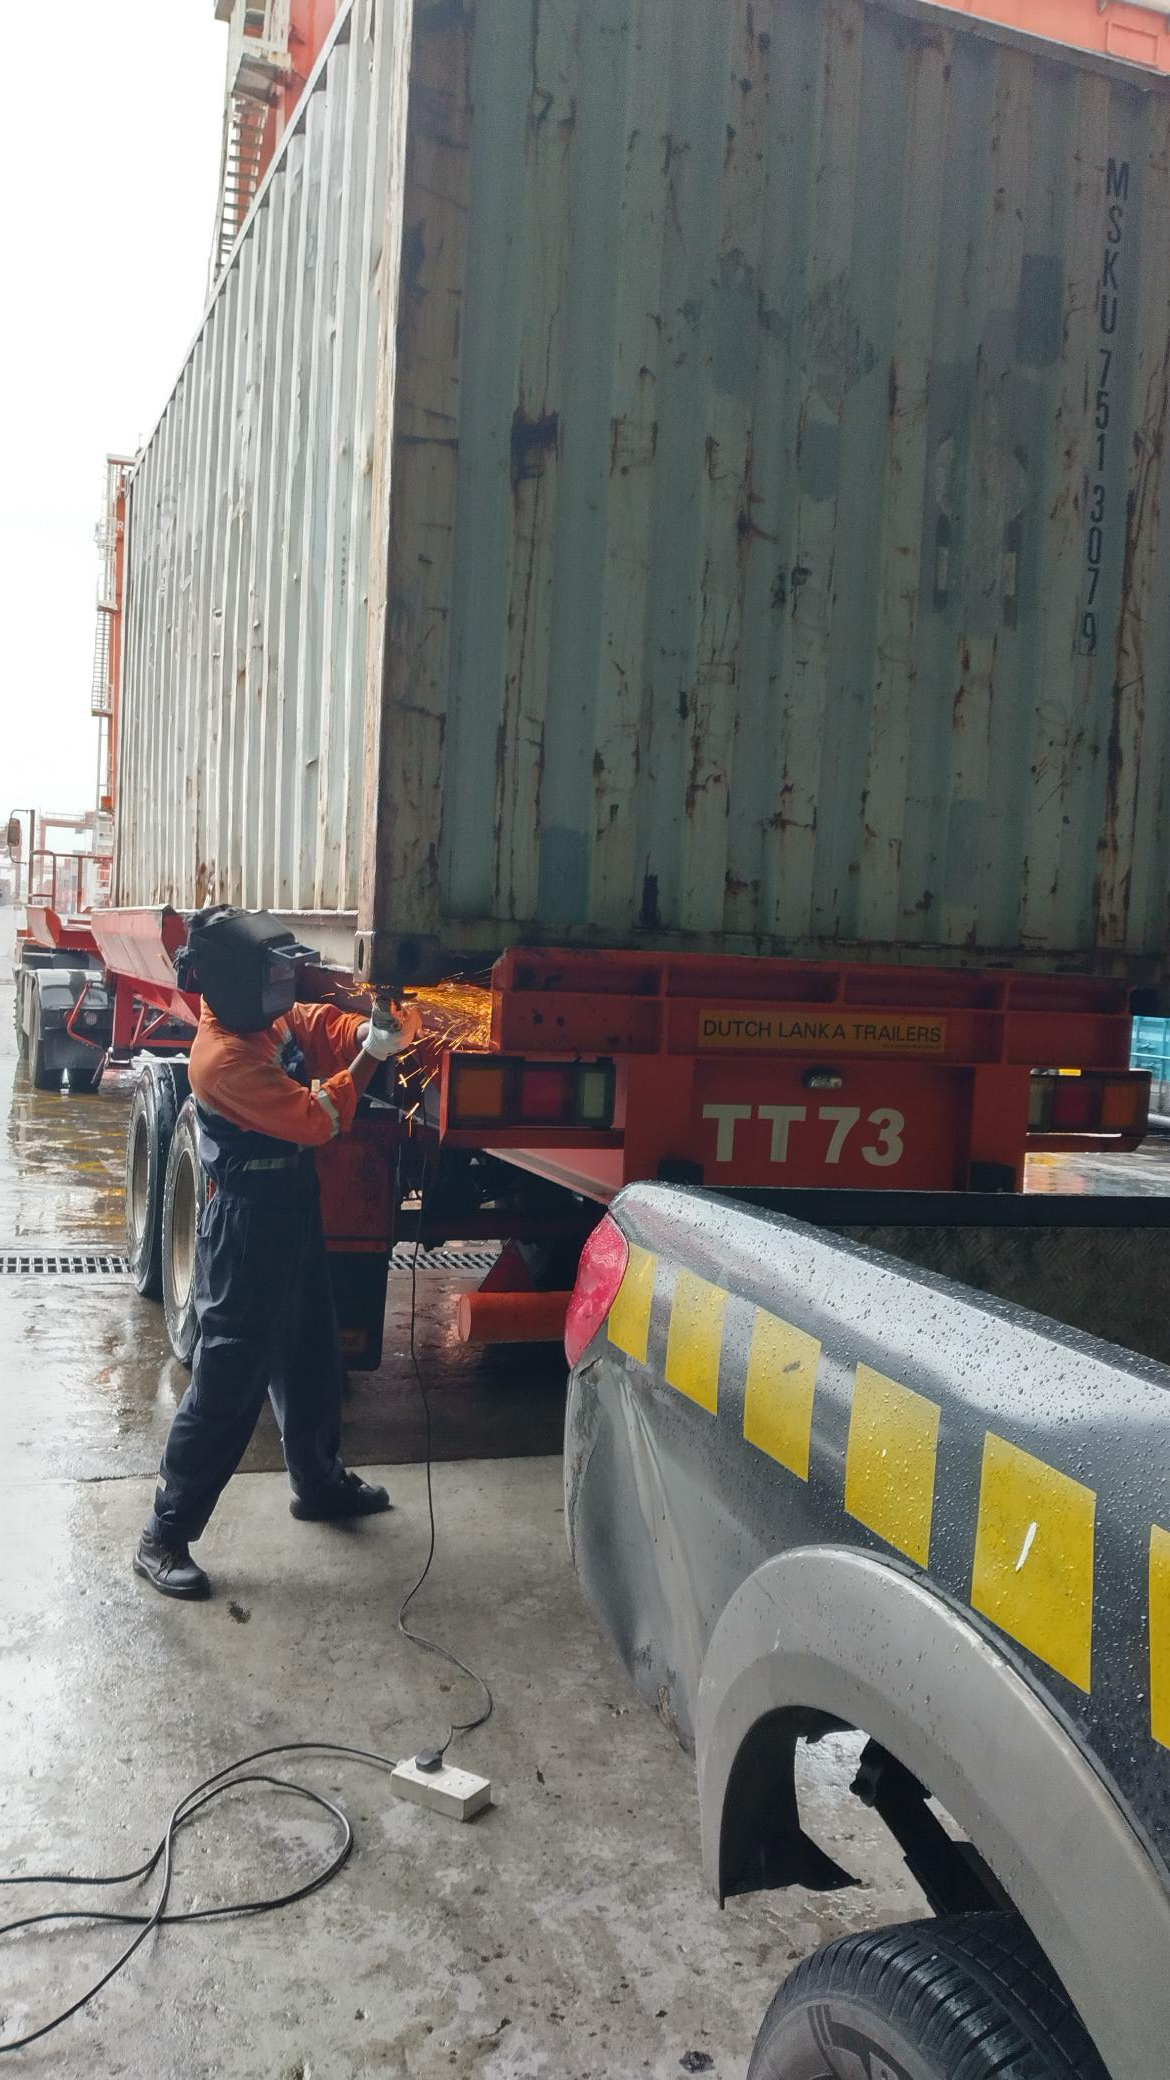rust: (491, 399, 606, 526)
